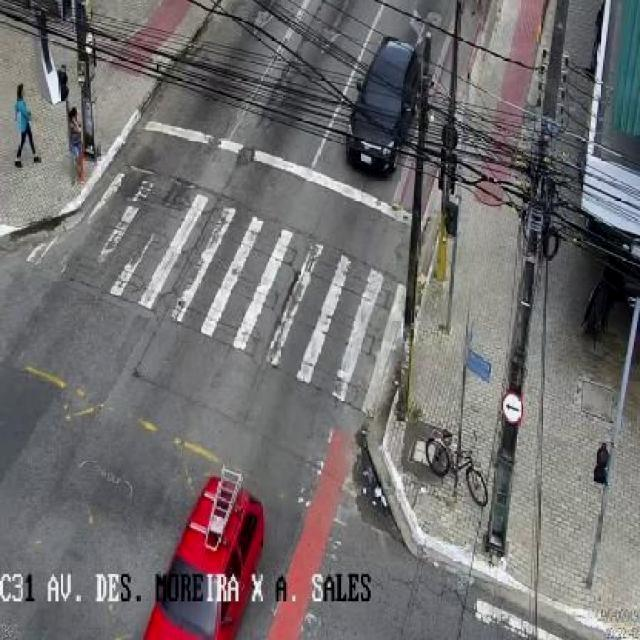Car: (142, 473, 266, 640), (343, 37, 426, 177)
Cycle: (422, 427, 490, 507)
